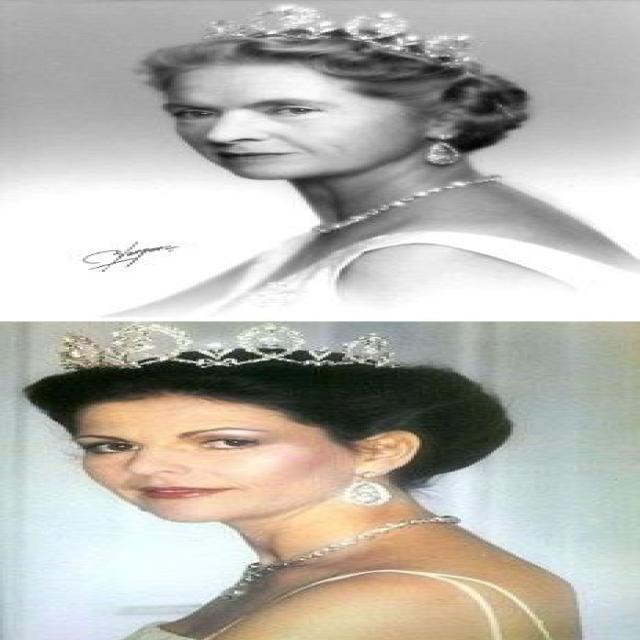Earring: (334, 462, 404, 514), (420, 134, 476, 178)
